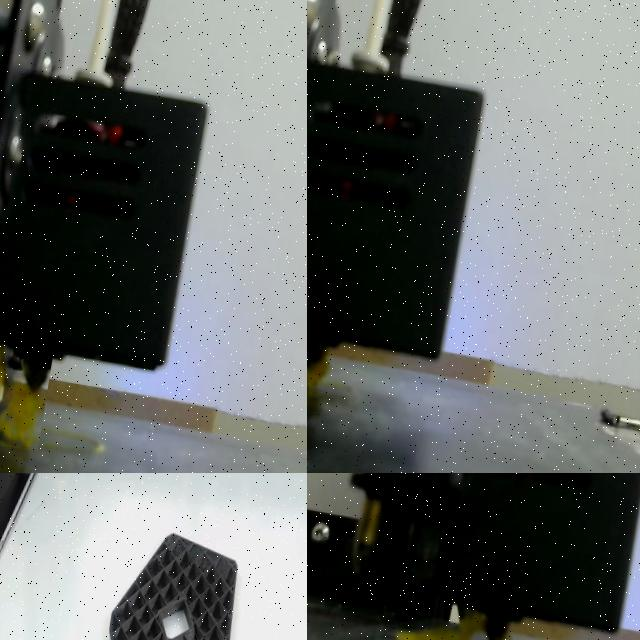spaghetti: (0, 319, 56, 452), (396, 613, 485, 640), (307, 356, 329, 387)
